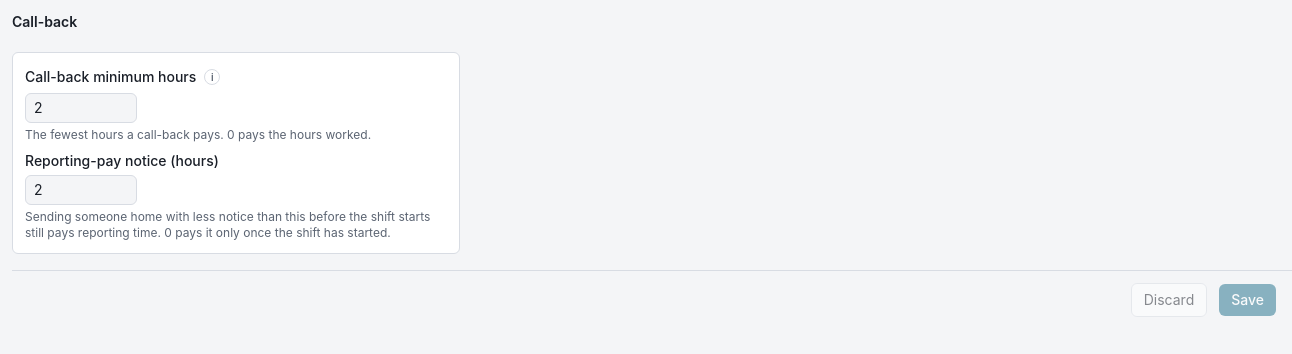
it: the call-back minimum in Settings › Pay › will not save a reporting-pay notice longer than a day
The image size is (1292, 354).
Replace the text in the number field labelled "Reporting-pay notice (hours)" with "30" at (81, 190), box x1=25 y1=175 x2=137 y2=205
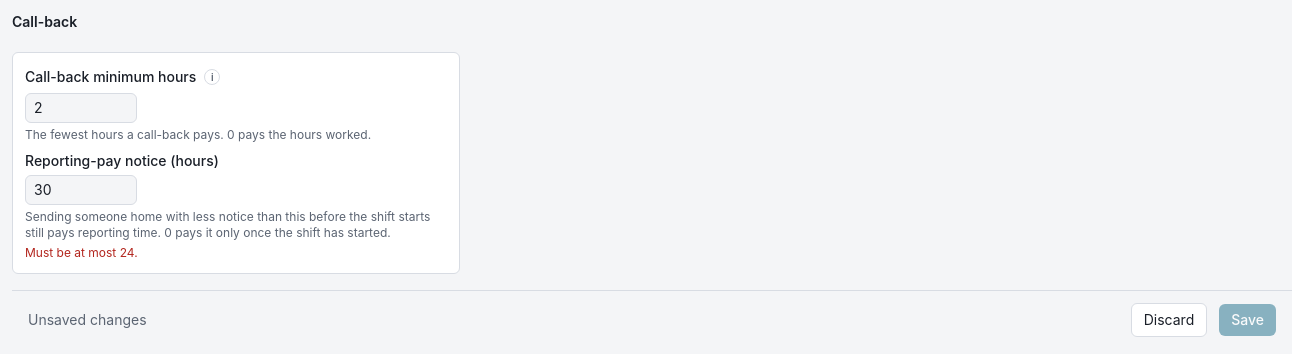
Expected: the button "Save" is disabled, x1=1219 y1=304 x2=1276 y2=336
Now the text "Must be at most 24." is shown, box x1=25 y1=245 x2=138 y2=260
